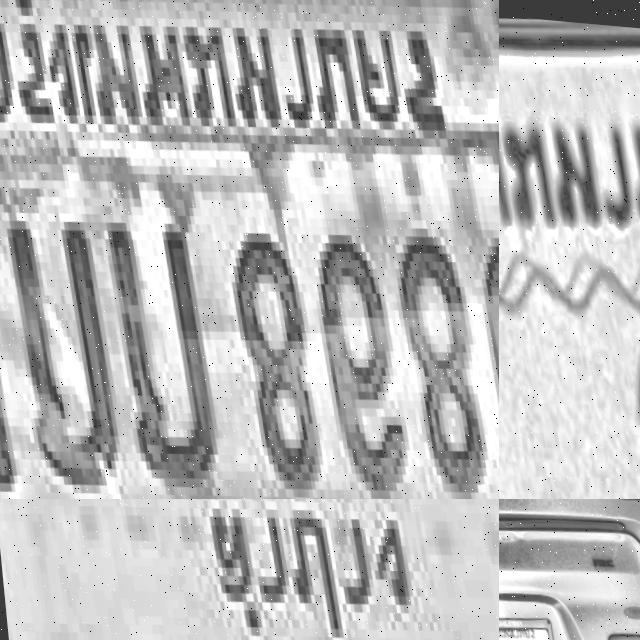license-plate: (0, 0, 499, 499), (499, 0, 640, 499), (0, 499, 499, 640), (499, 594, 552, 640)
